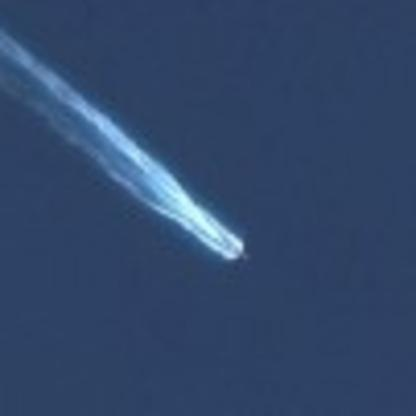ship: (220, 232, 254, 268)
